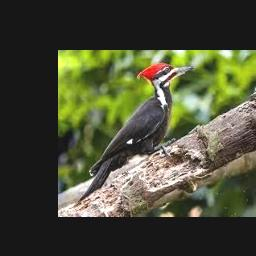Woodpecker: (76, 62, 195, 203)
